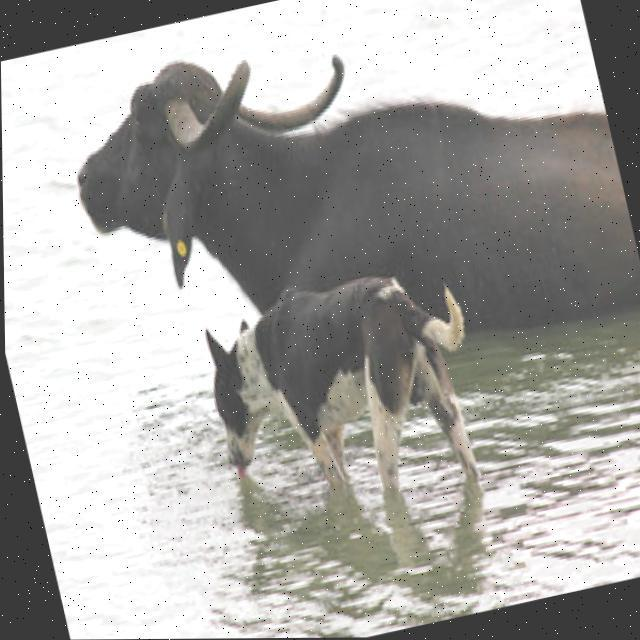Buffalo: (51, 0, 640, 420)
